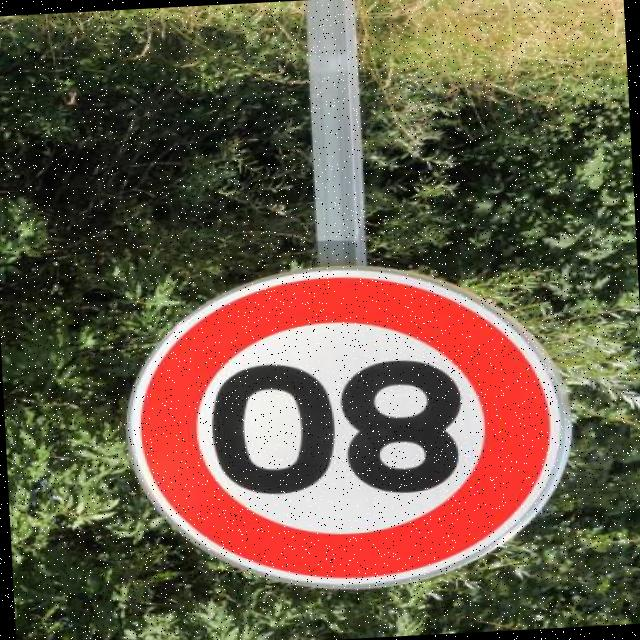speed_limit_80: (99, 254, 592, 607)
